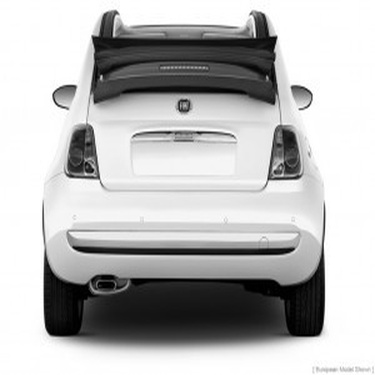car: (26, 5, 331, 340)
